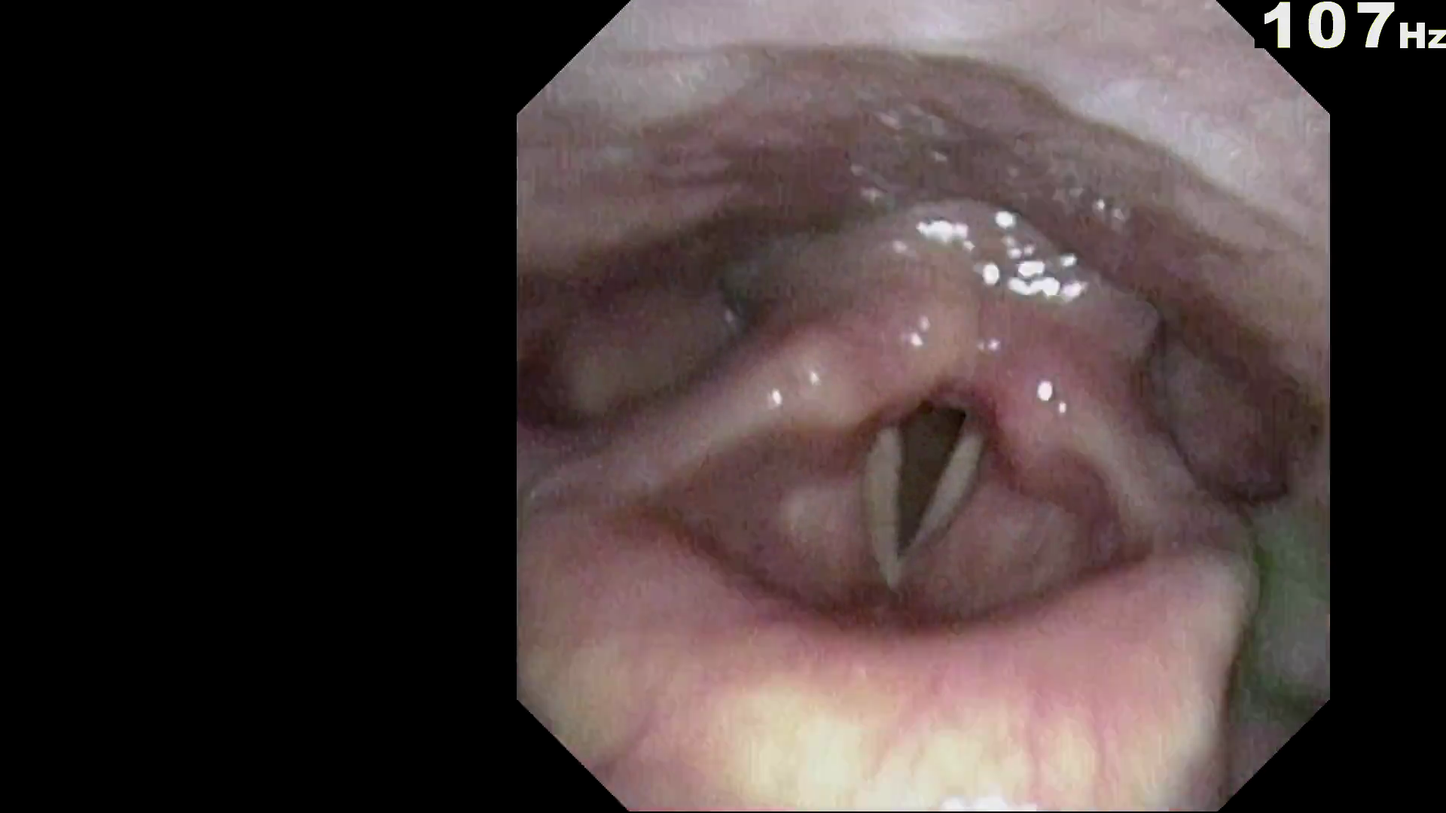trachea: (852, 368, 1005, 589)
